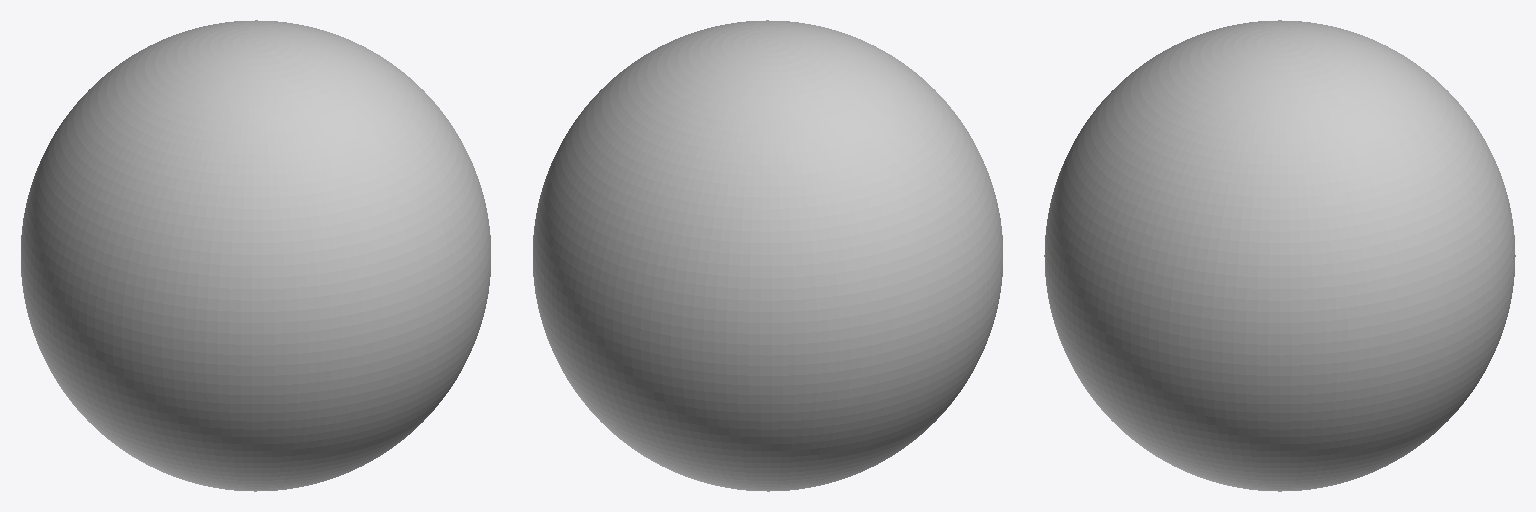
Rendered from earth.obj.
3 views of the same model, side by side, from view 1: azimuth 30°, elevation 25°; view 2: azimuth 150°, elevation 25°; view 3: azimuth 270°, elevation 25° (orthographic).
Parts seen in each view (by area): view 1: Sphere; view 2: Sphere; view 3: Sphere.
Part boxes in pixels (x1,y1,x2,y2): Sphere: (21, 20, 490, 491); Sphere: (533, 20, 1002, 491); Sphere: (1044, 20, 1515, 491).
Bounding box in the file's own units: 20 × 20 × 20.